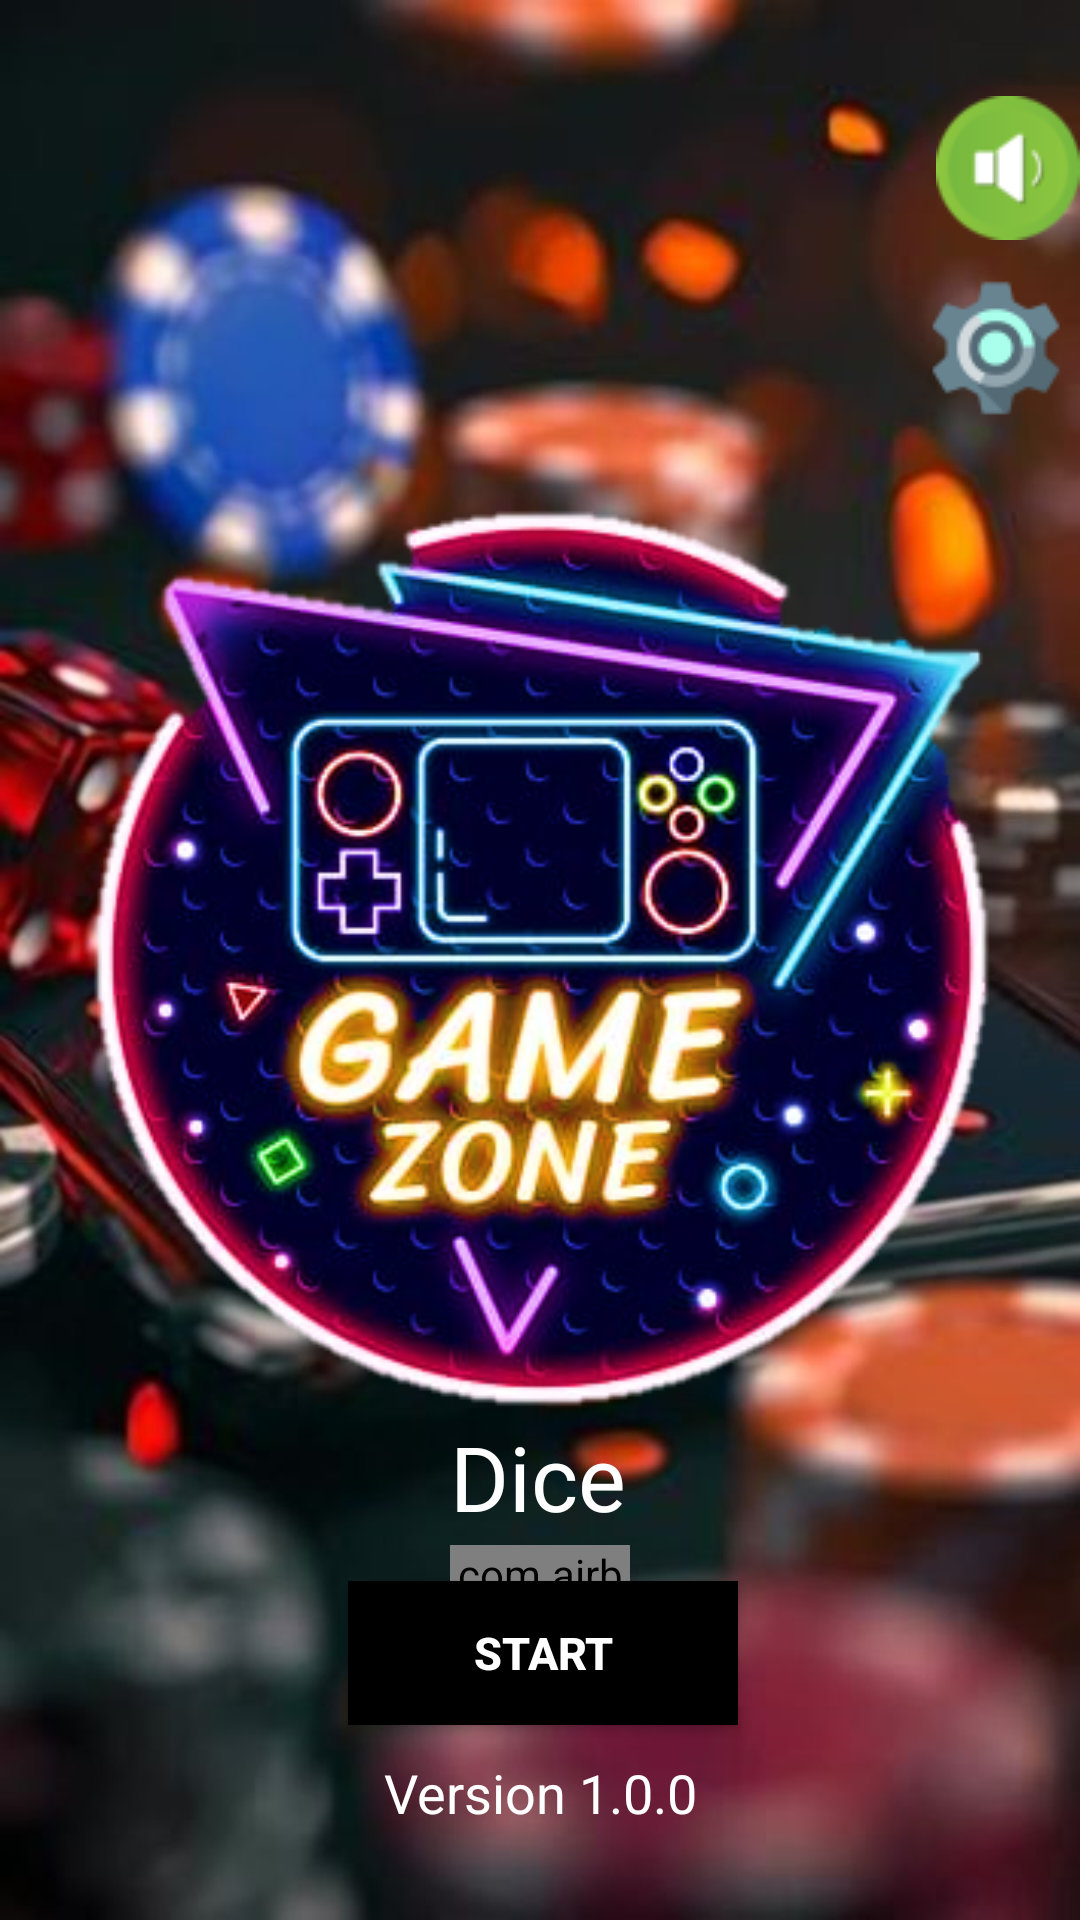

Where to tap for icons on this 1080 x 1920 app screen, as point (x, y):
Settings: point (992, 348)
Turn music on or off: point (1008, 168)
